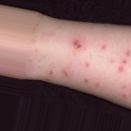Fleas: (61, 68, 72, 79), (72, 40, 81, 49), (117, 64, 124, 72), (121, 93, 129, 98), (48, 70, 54, 75), (122, 57, 126, 64), (101, 44, 106, 49), (94, 82, 99, 87), (126, 50, 130, 56), (85, 63, 89, 68), (83, 78, 88, 82), (110, 59, 113, 63)
